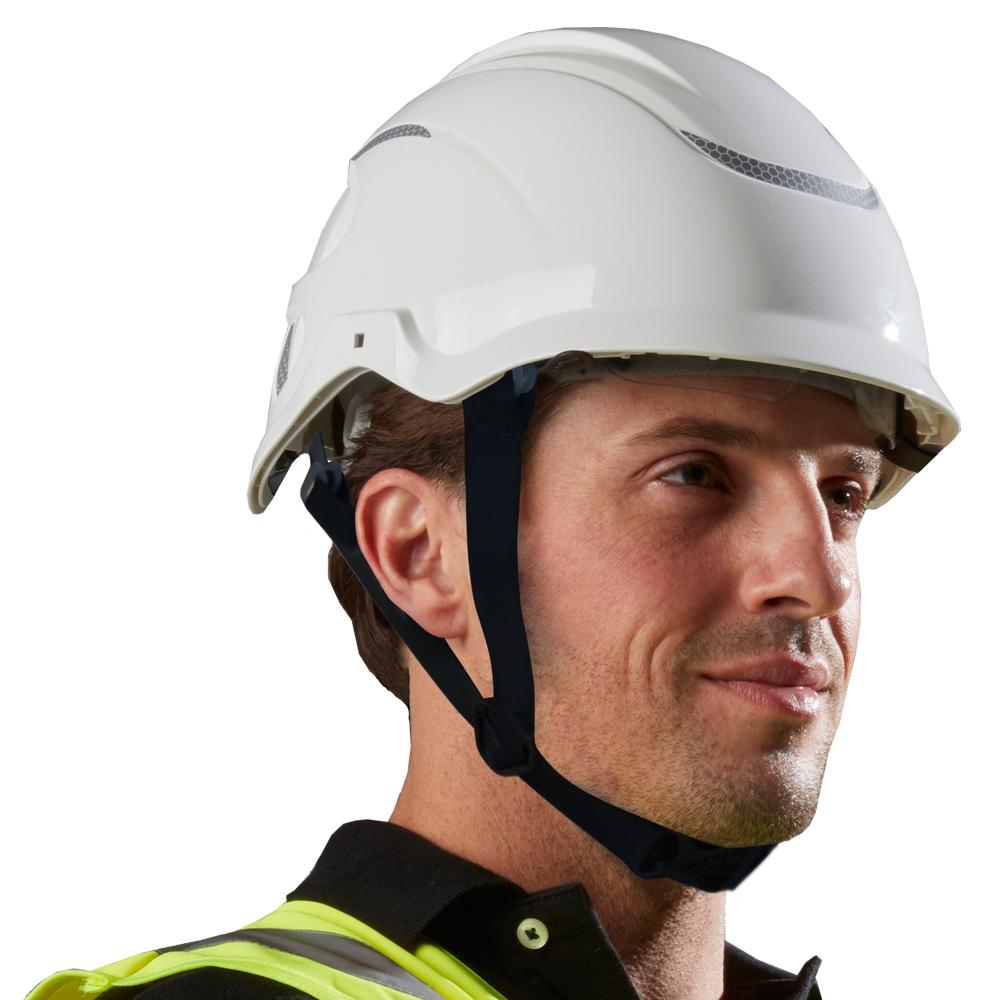helmet: (245, 21, 966, 517)
